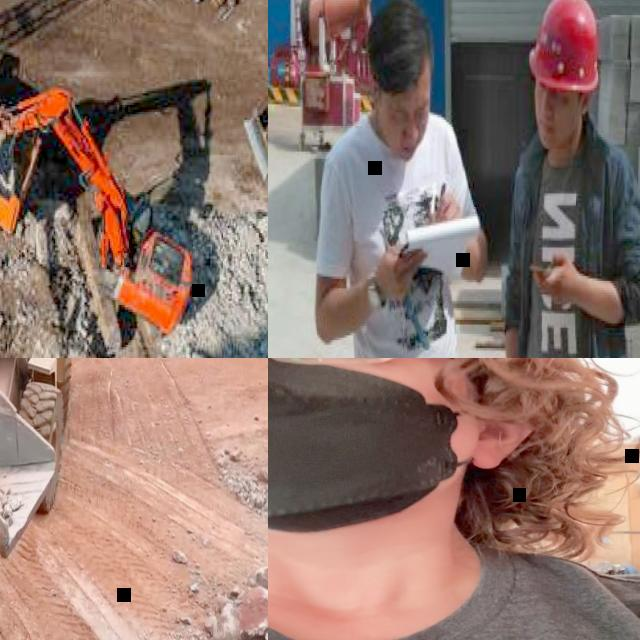Hardhat: (526, 0, 604, 92)
Mask: (268, 358, 513, 531)
NO-Hardhat: (369, 0, 433, 93)
NO-Mask: (534, 102, 582, 143), (388, 114, 430, 146)
NO-Safety Vest: (268, 545, 640, 640), (352, 114, 462, 358), (519, 142, 621, 358)
Person: (268, 358, 640, 640), (315, 0, 486, 358), (501, 0, 640, 358)
vehicle: (0, 82, 205, 358), (0, 358, 61, 640), (0, 27, 49, 247), (243, 70, 268, 182)
